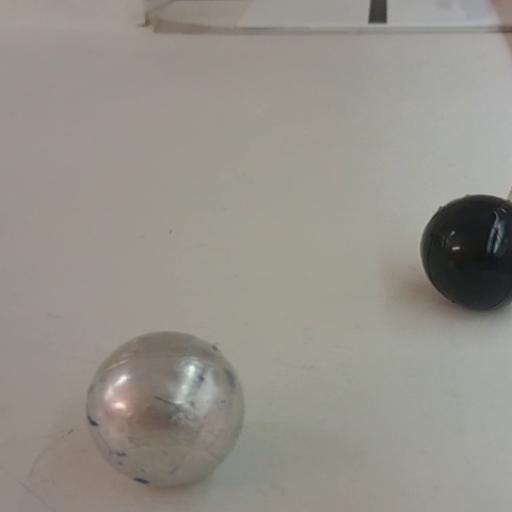alive: (82, 330, 248, 488)
dead: (418, 191, 512, 311)
